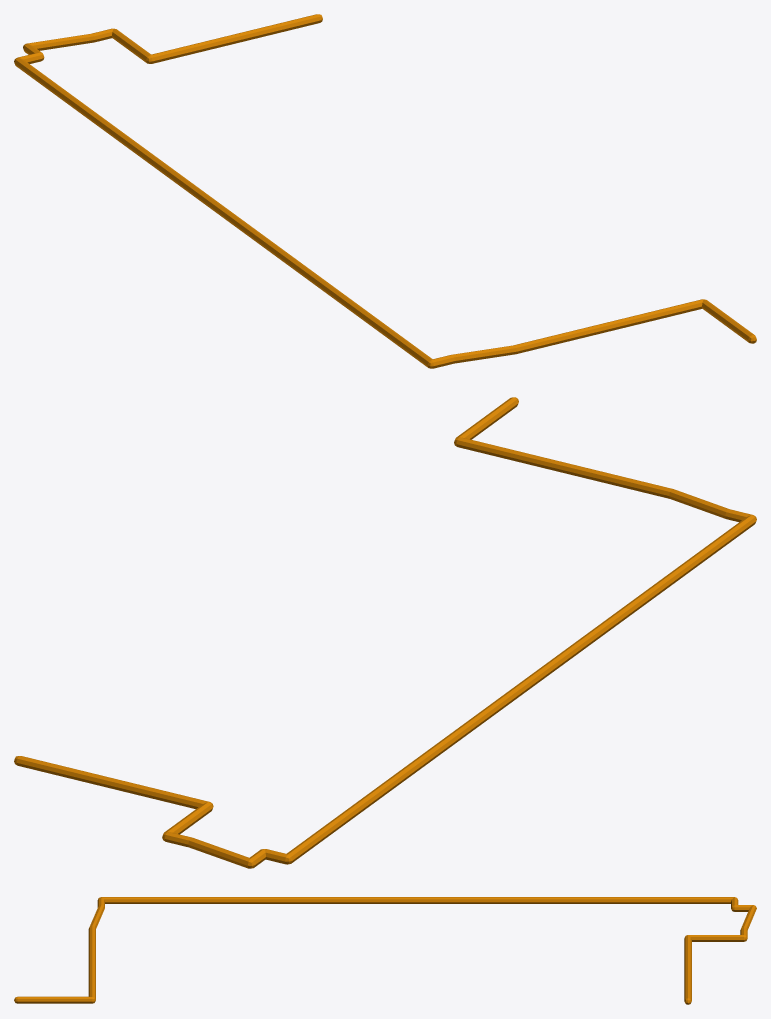
3 renders of one model, top to bottom at view 1: azimuth 30°, elevation 25°; view 2: azimuth 150°, elevation 25°; view 3: azimuth 270°, elevation 25°, orthographic. The views are drawn at different scales.
Size of the model in its own units: 660 by 20 by 1994.
